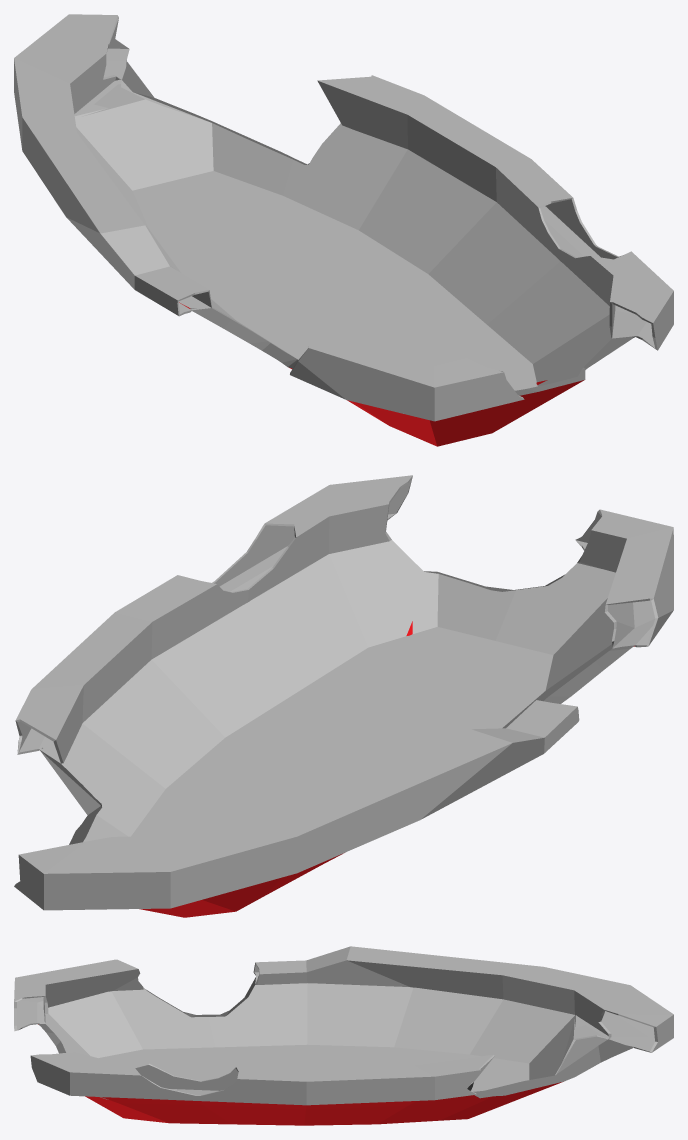
File: Map2_물에잠긴도시_Ship1.fbx
The picture shows the model from 3 angles, top to bottom: view 1: azimuth 30°, elevation 25°; view 2: azimuth 150°, elevation 25°; view 3: azimuth 270°, elevation 25°; orthographic projection. The views are drawn at different scales.
Parts seen in each view (by area): view 1: 3_물도시_바닥_Ship; view 2: 3_물도시_바닥_Ship; view 3: 3_물도시_바닥_Ship.
Boxes of the visible parts, bbox=[...] form: 3_물도시_바닥_Ship: bbox=[14, 14, 673, 446]; 3_물도시_바닥_Ship: bbox=[14, 475, 673, 917]; 3_물도시_바닥_Ship: bbox=[14, 946, 673, 1125].
Size of the model in its own units: 1425 by 466 by 2933.
